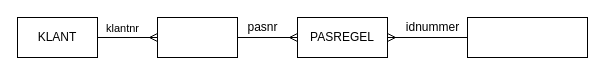
The diagram is 605 pixels wide and 75 high, and some of its shapes have lost their labels. Each missing label, with the centre of its shape:
"PAS" goes at point (197, 37).
"VOORSTELLING" goes at point (527, 37).
